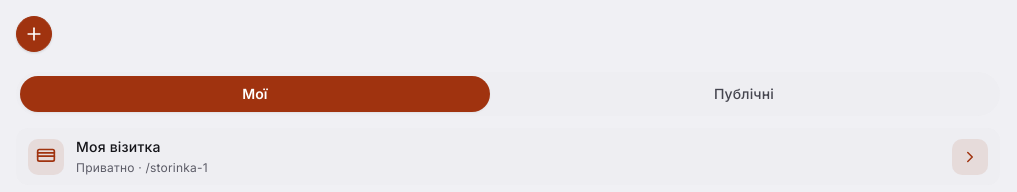
екран «Сторінки» › перемикач відкриває «Публічні» — і там уже чужі
The width and height of the screenshot is (1017, 192).
Expected: the text "Моя візитка" is shown, [76, 138, 161, 155]
Click the tab "Публічні". click: (744, 94)
box: [492, 76, 996, 112]
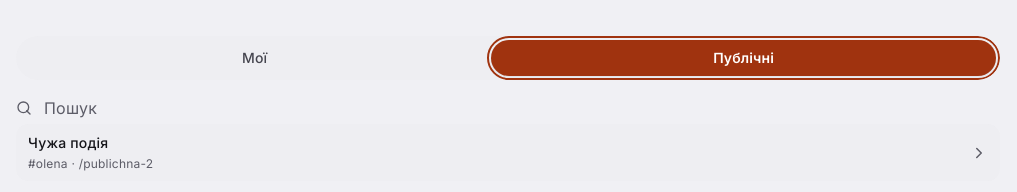
Result: the text "Чужа подія" is shown at [28, 134, 108, 151]
